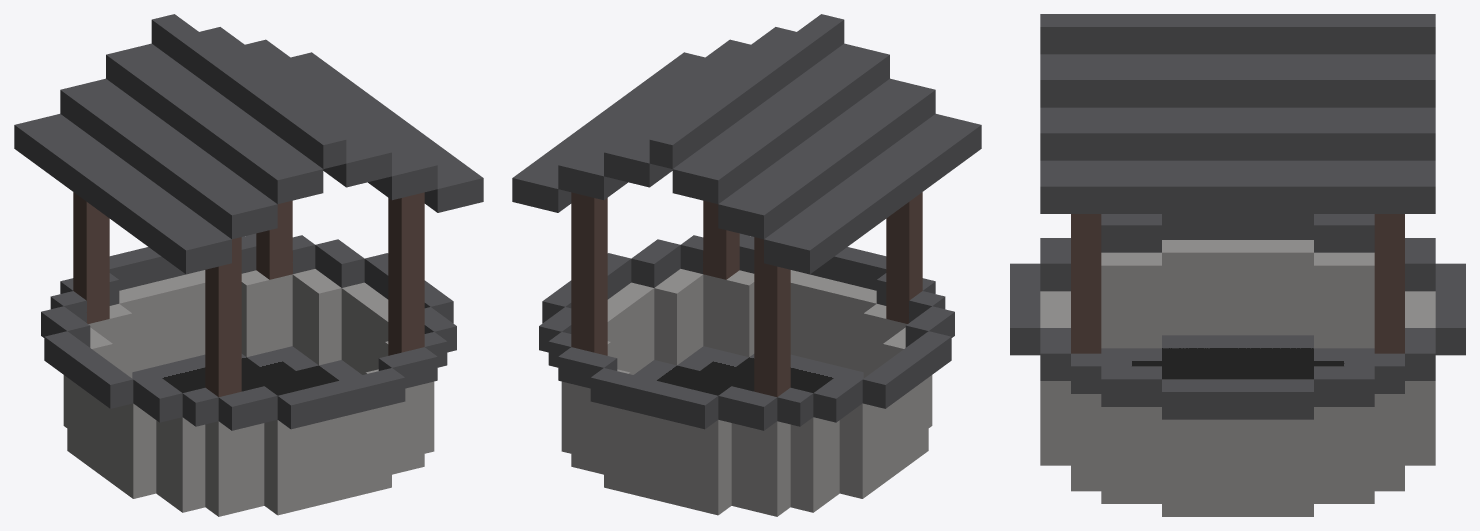
File: well.fbx
3 views of the same model, side by side, from view 1: azimuth 30°, elevation 25°; view 2: azimuth 150°, elevation 25°; view 3: azimuth 270°, elevation 25° (orthographic). The views are drawn at different scales.
Parts seen in each view (by area): view 1: well_0; view 2: well_0; view 3: well_0.
Boxes of the visible parts, bbox=[...] form: well_0: bbox=[14, 14, 483, 516]; well_0: bbox=[512, 14, 981, 516]; well_0: bbox=[1010, 14, 1465, 516].
Size of the model in its own units: 1500 by 1500 by 1500.
